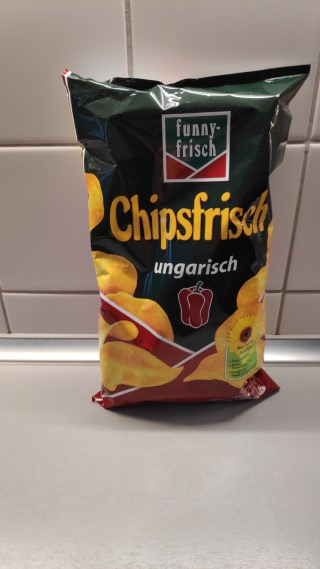chipsfrisch: (60, 60, 314, 412)
